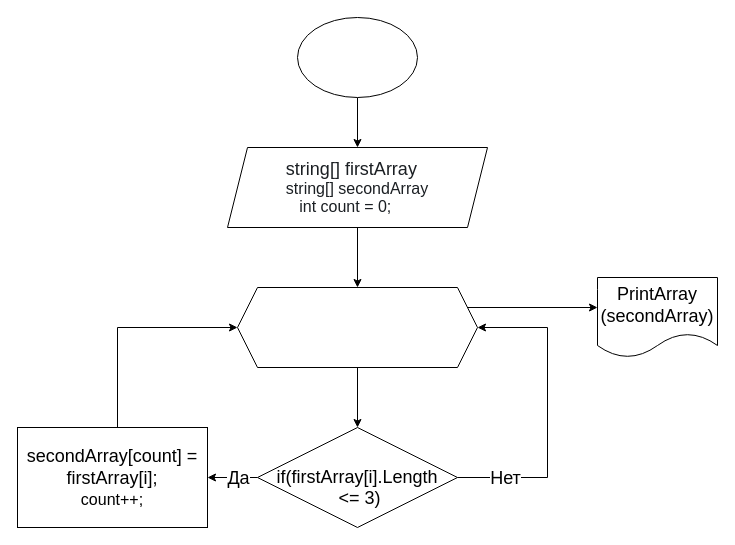
This 735x545 diagram has some shape labels left out. The shapes that lost their labels are listed below. From the top down, each one's box as (x1, y1, x2, y2) in pixels, then its label:
(296, 16, 418, 98): FindWords
(236, 286, 478, 368): for(int i = 0; i < firstArray.Length; i++)
